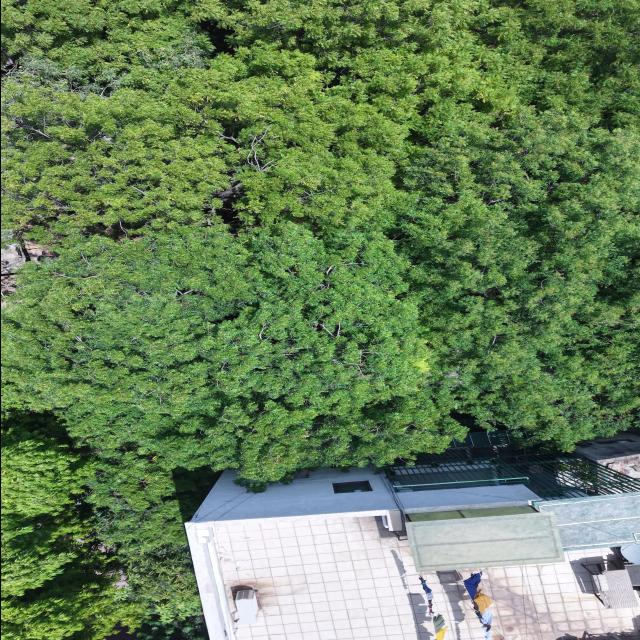ROOFTOP_BUILDING: (186, 443, 639, 639)
VEGETATION_TREE: (1, 0, 639, 639)
